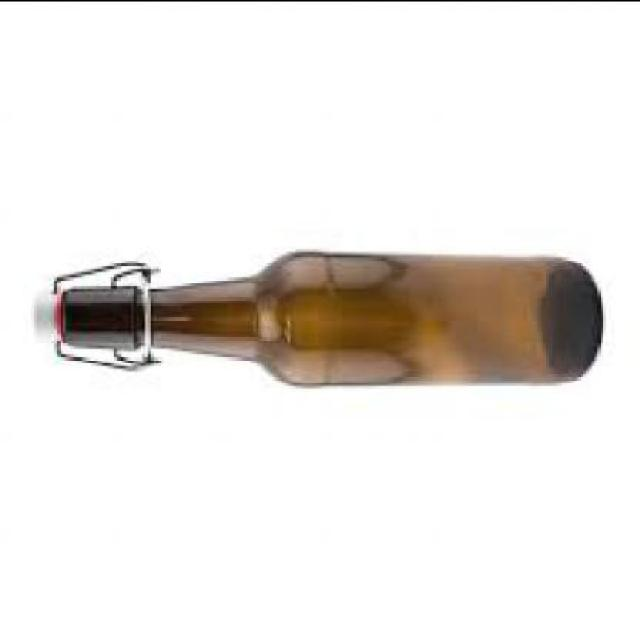GLASS: (57, 245, 600, 384)
PLASTIC: (32, 282, 56, 336)
